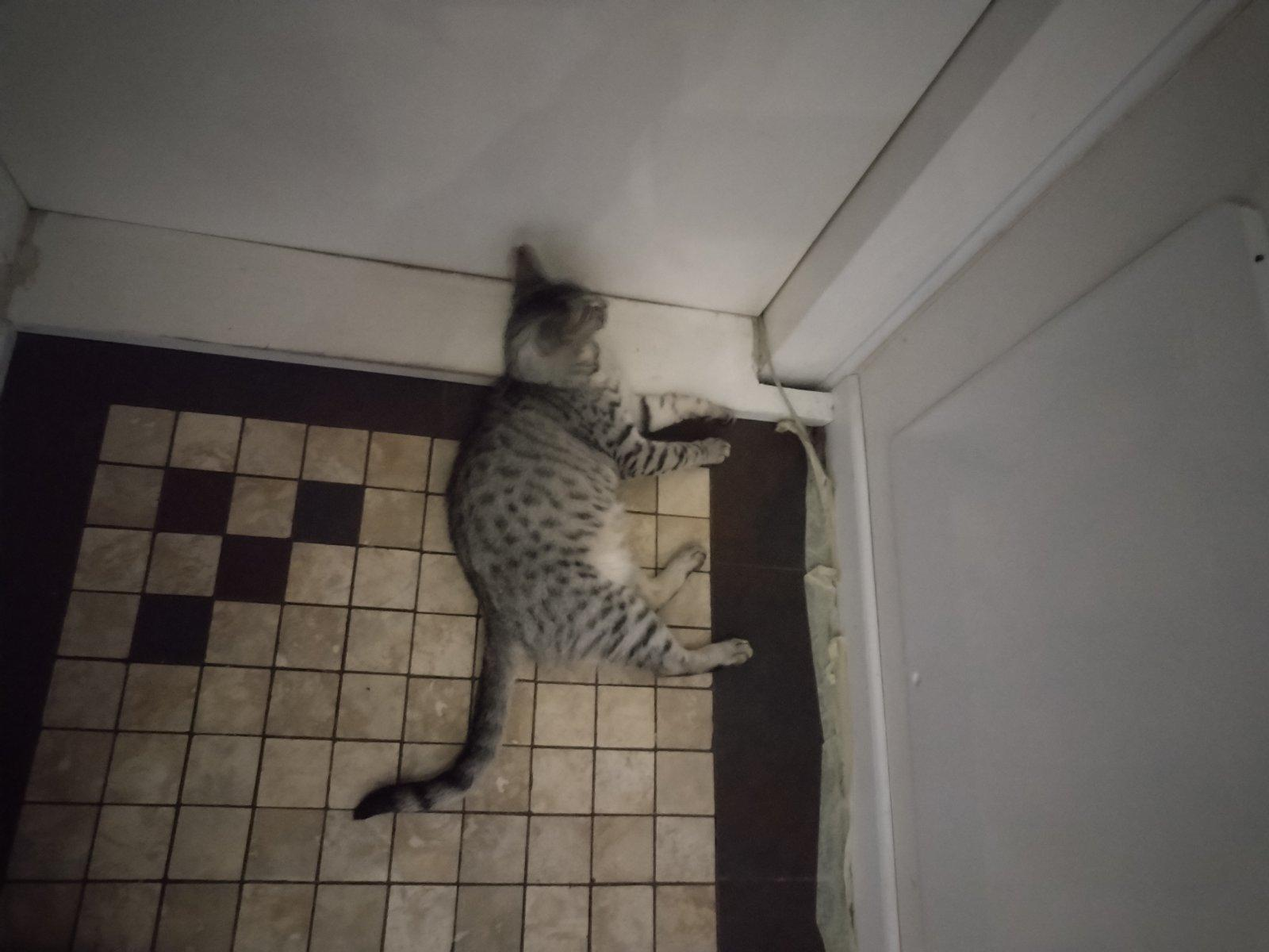macka: (349, 246, 757, 820)
